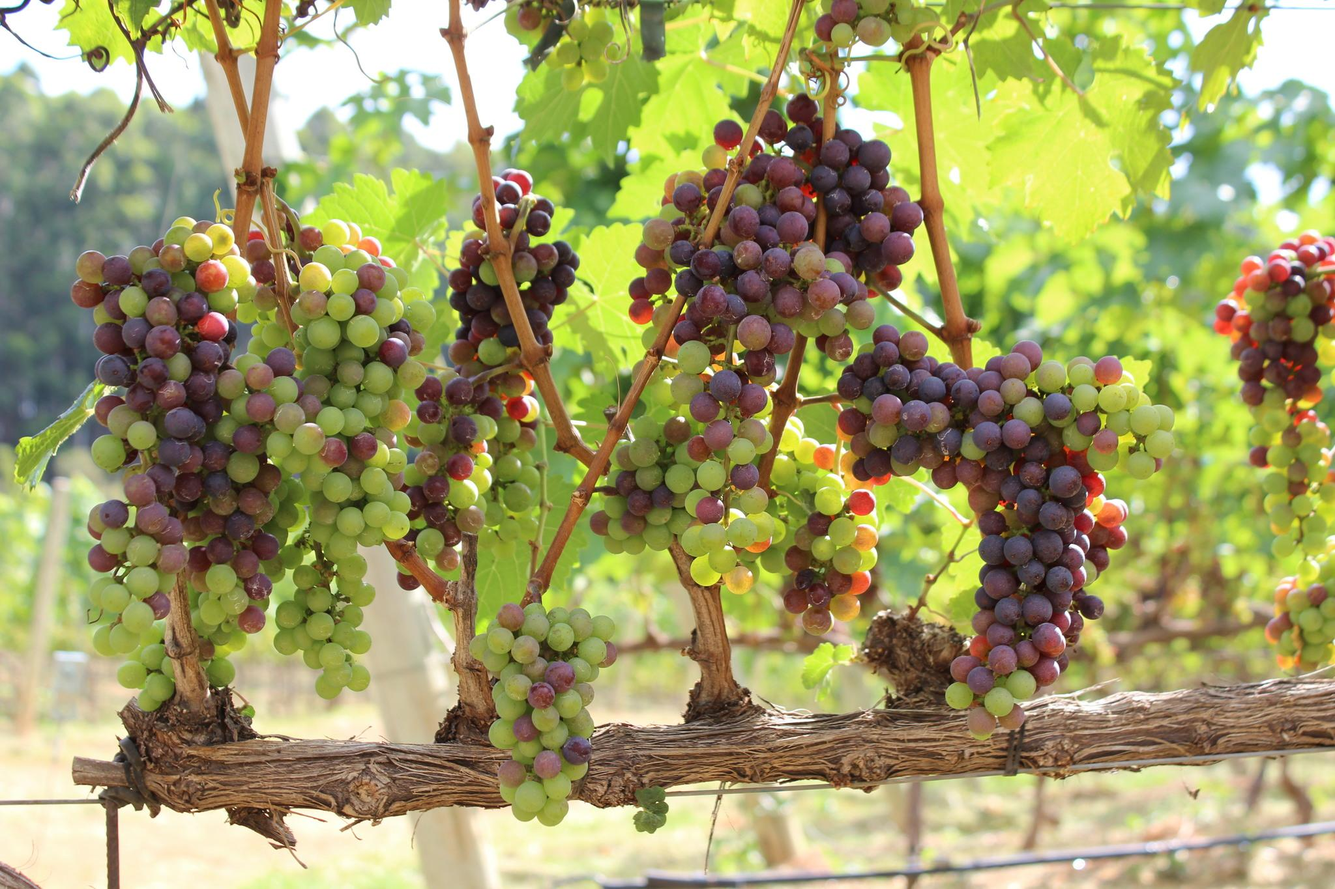Grape Unripe: (246, 193, 420, 698), (1211, 223, 1335, 541), (462, 588, 621, 827), (591, 367, 770, 565), (744, 414, 878, 650), (393, 361, 506, 595), (1267, 559, 1335, 682)
